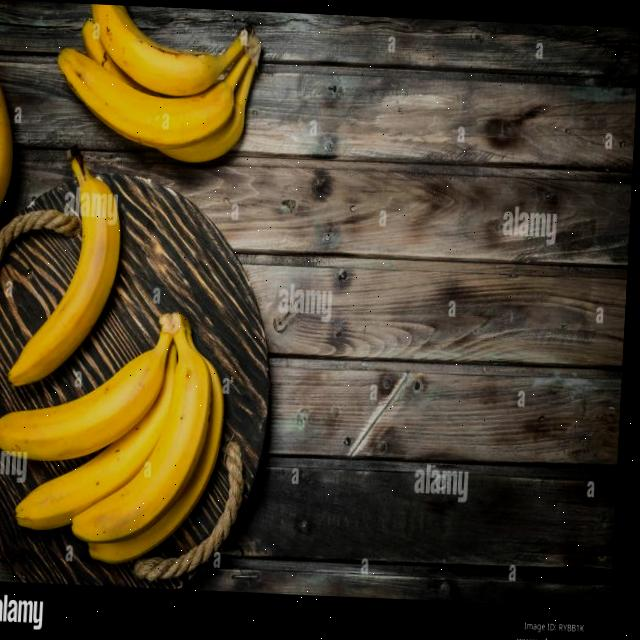banana: (0, 299, 235, 576), (48, 3, 270, 175), (2, 137, 129, 392), (0, 43, 23, 232)
